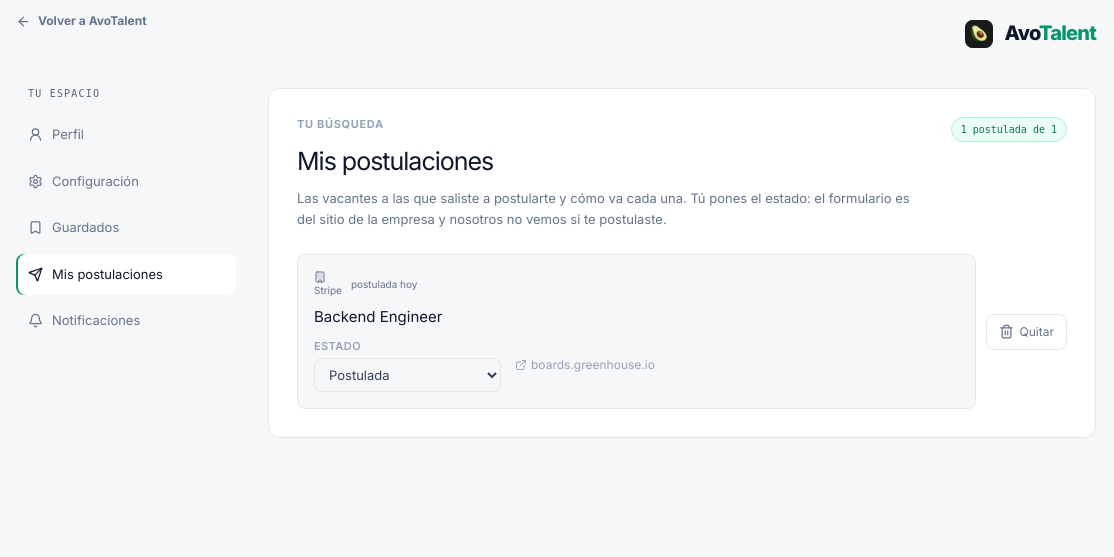
Scenario: Mis postulaciones (the page) › lets the person change a status and remove one
This screenshot has width=1114, height=557.
Select "En proceso o entrevista" in the dropdown named "Estado de Backend Engineer" at (408, 375), box [314,358,501,392]
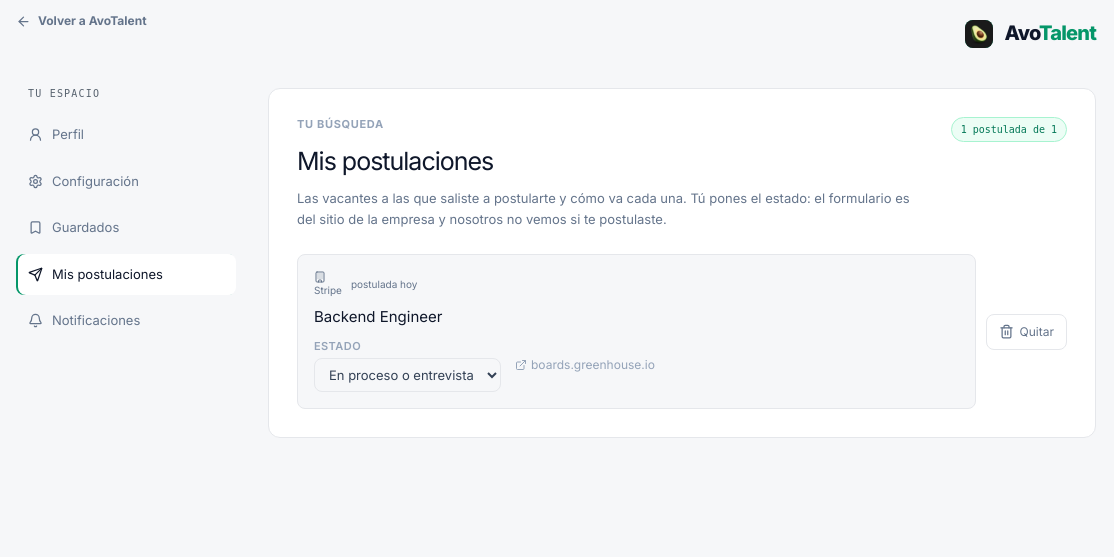
Click the button with aria-label "Quitar Backend Engineer".
click(1026, 332)  # box [986,314,1067,350]
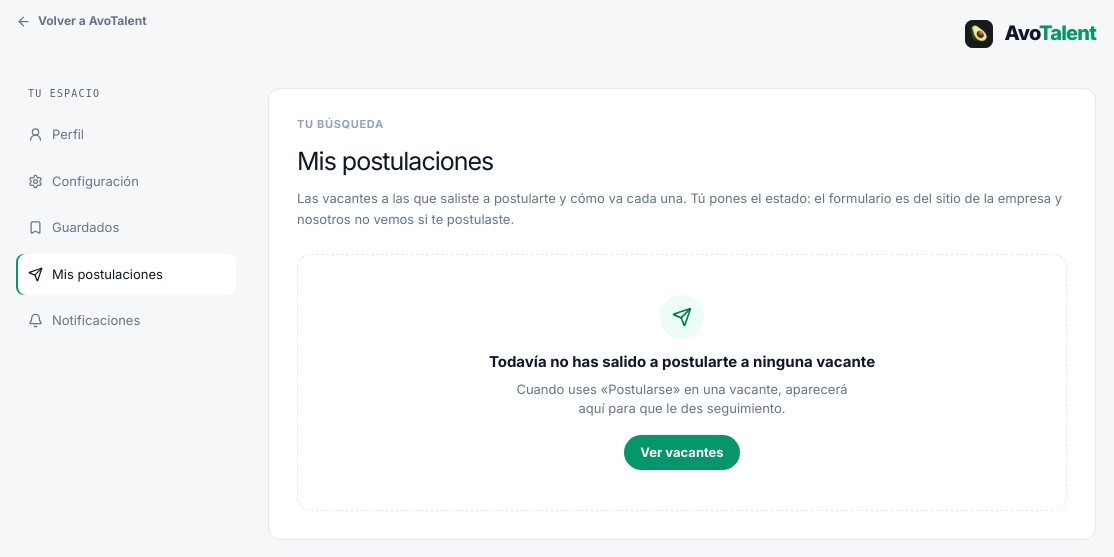
Expected: the link "Backend Engineer" is gone
